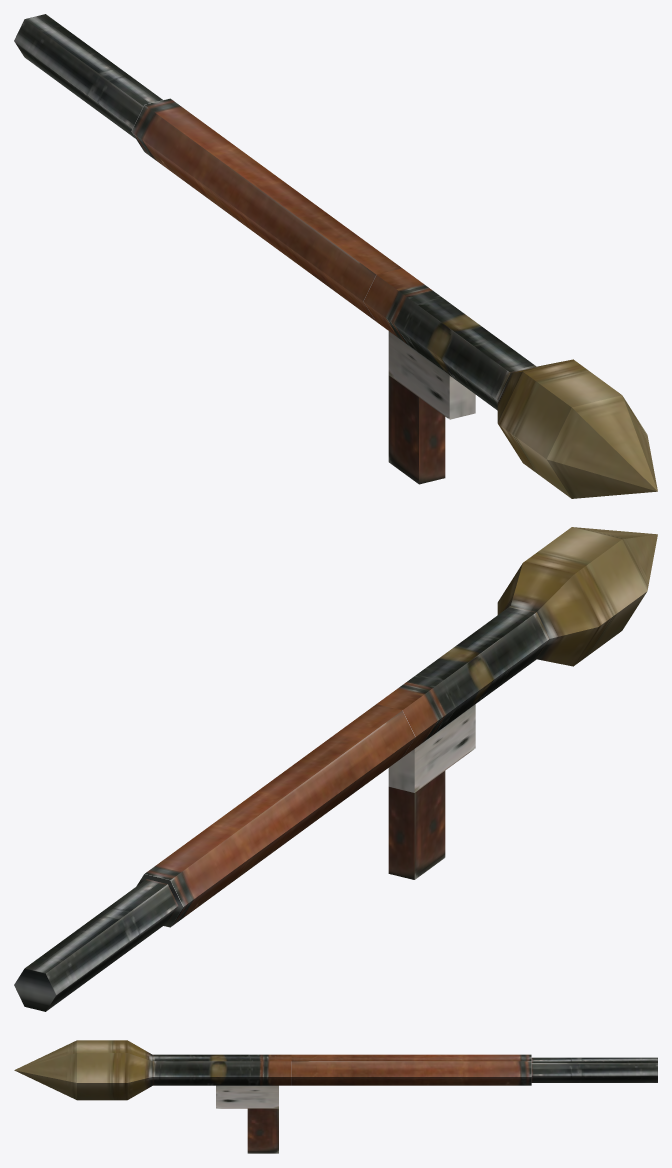
The model's file is rpg2.fbx.
3 renders of one model, top to bottom at view 1: azimuth 30°, elevation 25°; view 2: azimuth 150°, elevation 25°; view 3: azimuth 270°, elevation 25°, orthographic. The views are drawn at different scales.
Visible parts, largest first — view 1: rpg2, rocket; view 2: rpg2, rocket; view 3: rpg2, rocket.
Part boxes in pixels (x1=…): rpg2: x1=14, y1=14, x2=536, y2=484; rocket: x1=497, y1=359, x2=657, y2=498; rpg2: x1=14, y1=606, x2=549, y2=1011; rocket: x1=497, y1=527, x2=657, y2=666; rpg2: x1=152, y1=1054, x2=657, y2=1153; rocket: x1=14, y1=1040, x2=152, y2=1100.
Size of the model in its own units: 4.77 by 9.07 by 50.99.
